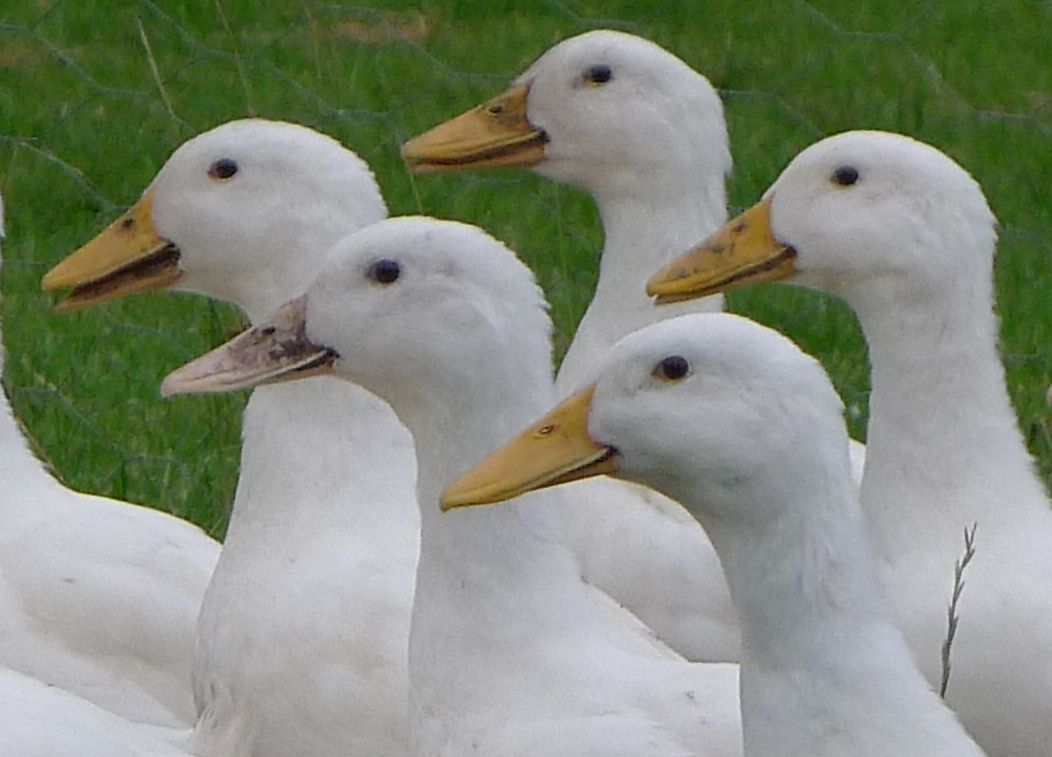Mencari Makan di Lumpur: (421, 371, 630, 539), (152, 295, 340, 414), (20, 195, 185, 323), (632, 196, 806, 304), (385, 81, 551, 180)
